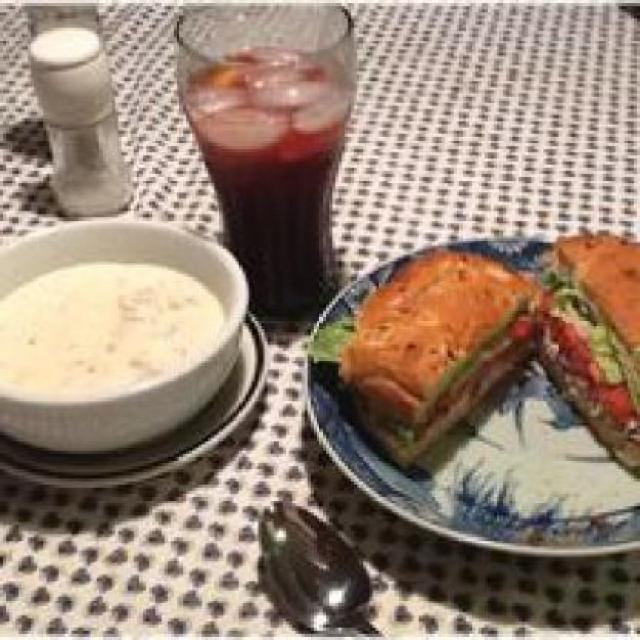clam chowder: (3, 208, 252, 454)
